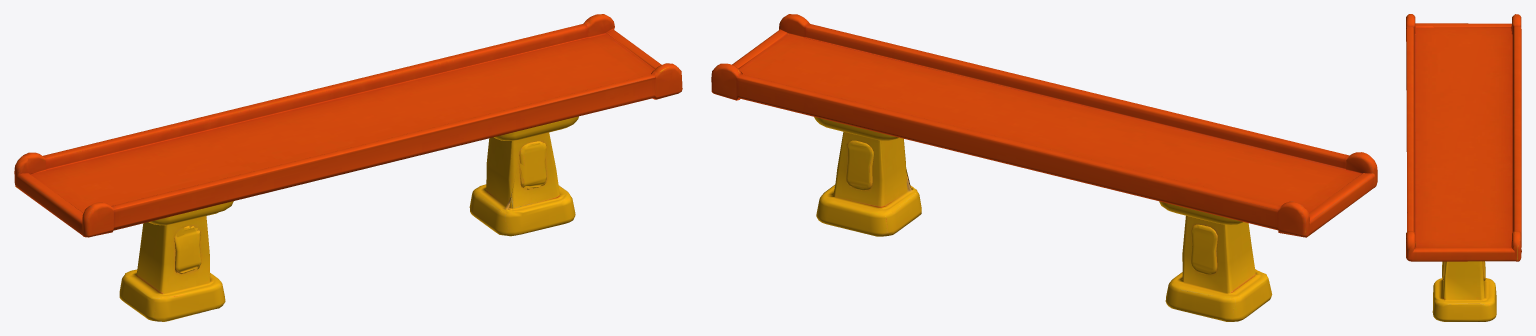
File: race_track.glb
The picture shows the model from 3 angles, left to right: view 1: azimuth 30°, elevation 25°; view 2: azimuth 150°, elevation 25°; view 3: azimuth 270°, elevation 25°; orthographic projection. The views are drawn at different scales.
Size of what is drawn, in the model's own units: 4.18 by 0.9997 by 0.8946.
Materials: 1 (1 with a texture image).
